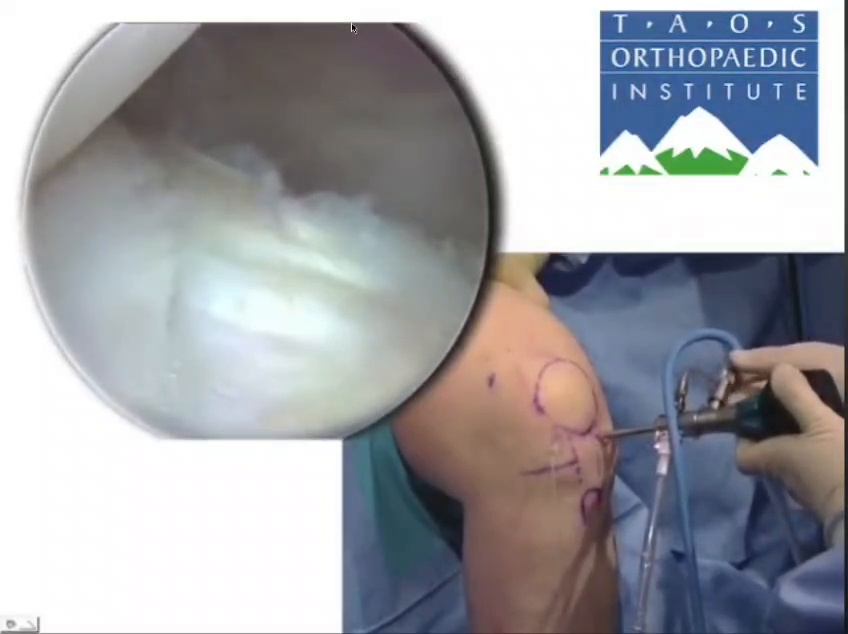arthroscope: (508, 271, 848, 593), (25, 0, 408, 191)
probe: (424, 242, 515, 389), (751, 513, 848, 622)
